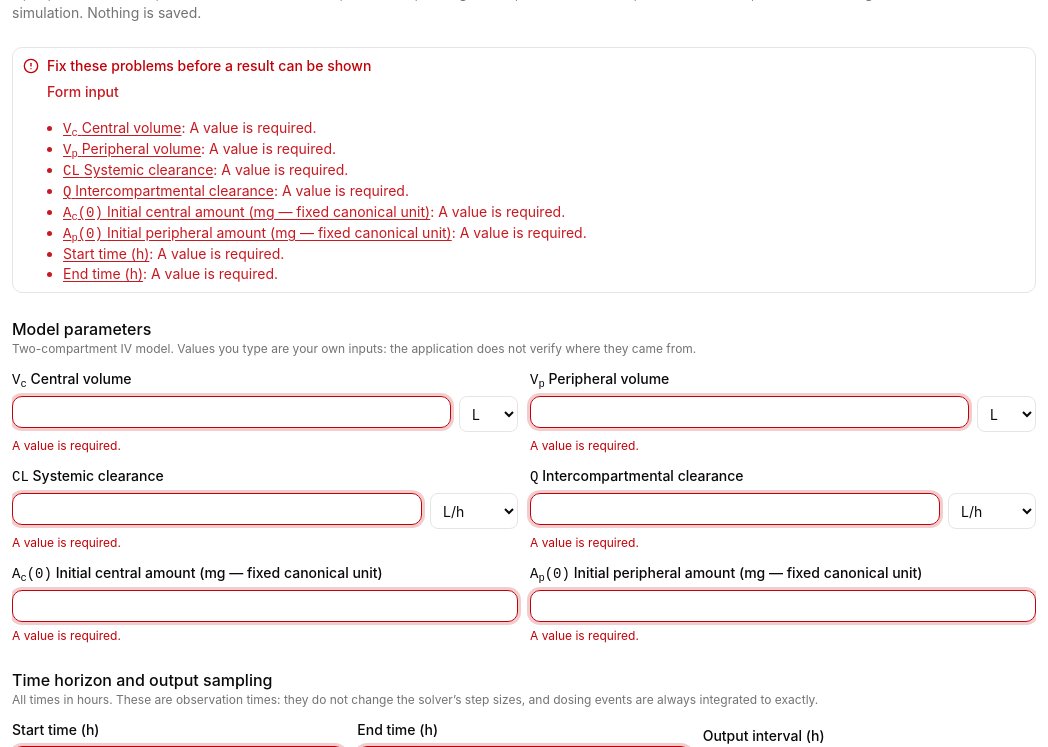
Scenario: saved scenarios — save › preserves an incomplete draft faithfully (blank fields are stored as blank)
The width and height of the screenshot is (1048, 747).
Clear the field with test id "clearance-value" at (217, 509), box [12,493,422,525]
(page scrolled)
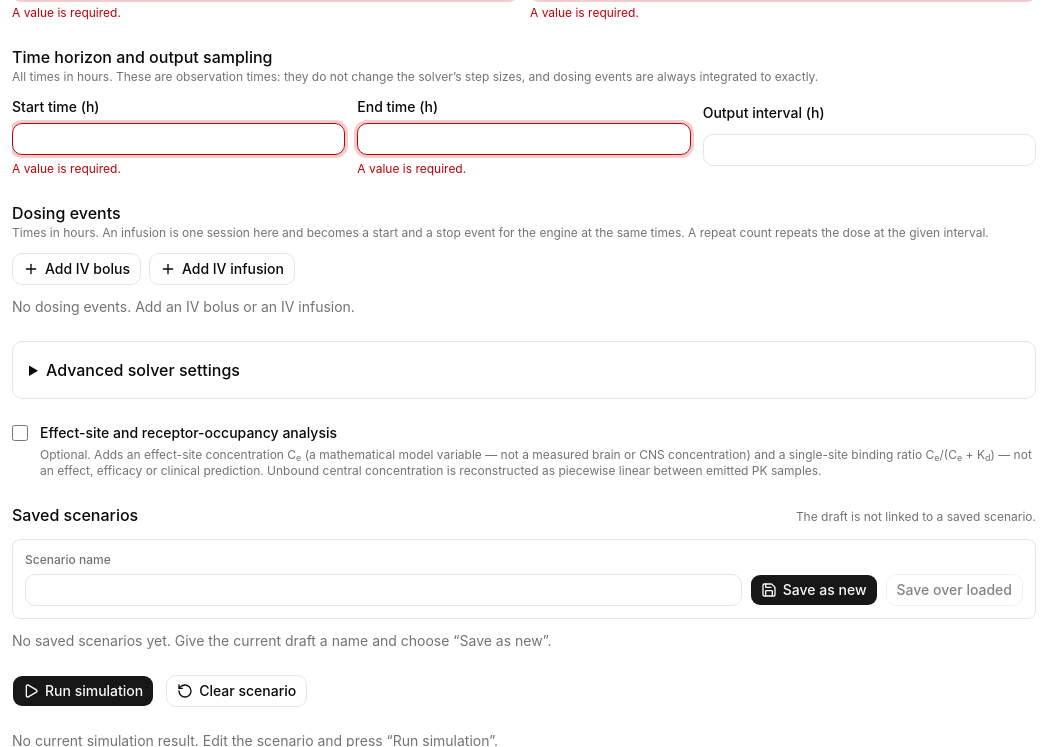
Type "Incomplete" into the field with test id "scenario-name-input" at (383, 590), box [25,574,742,606]
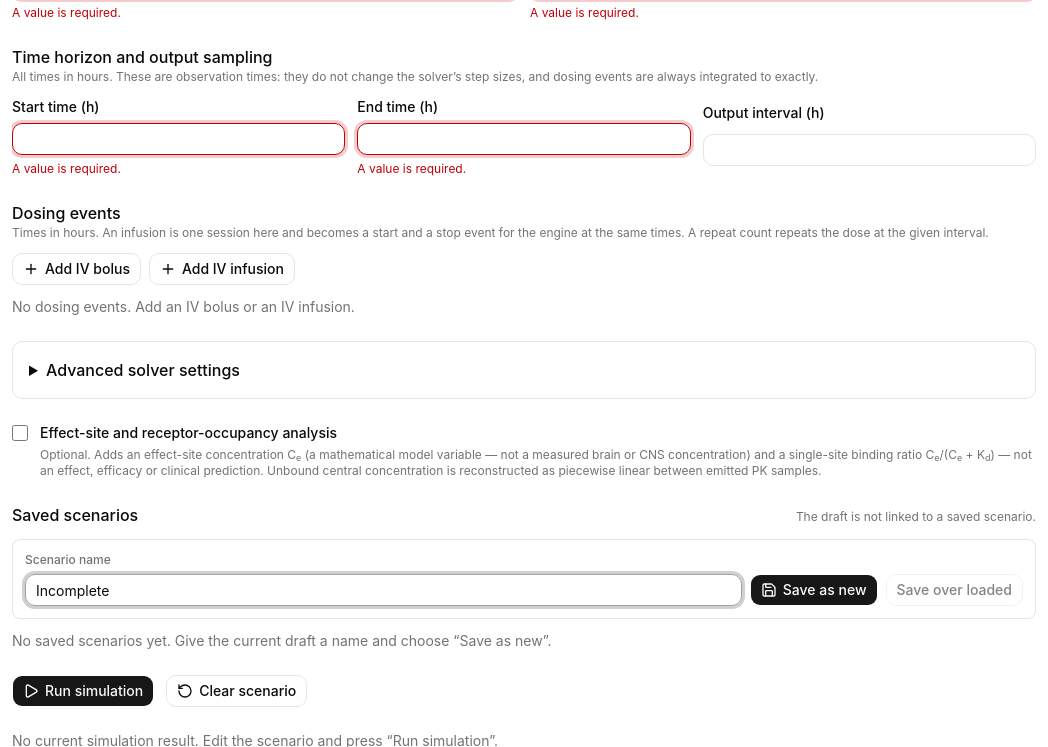
Click the button with test id "scenario-save" at (814, 590), box [750,574,878,606]
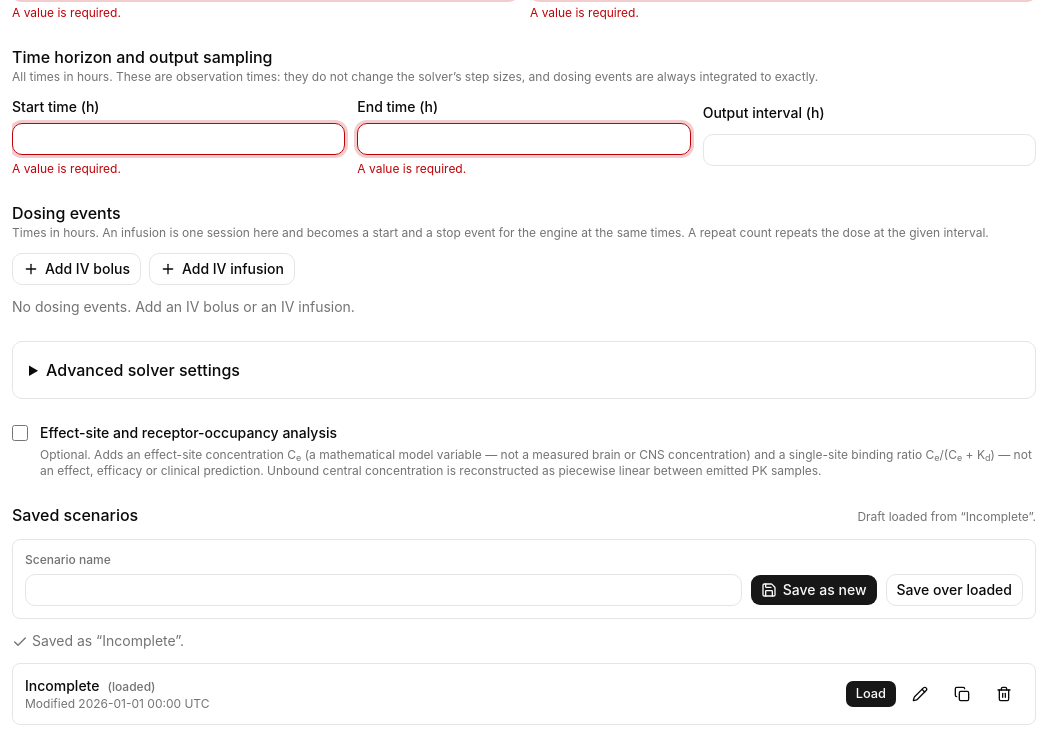
Check: the list with test id "scenario-list" is shown, box [12,663,1036,725]
